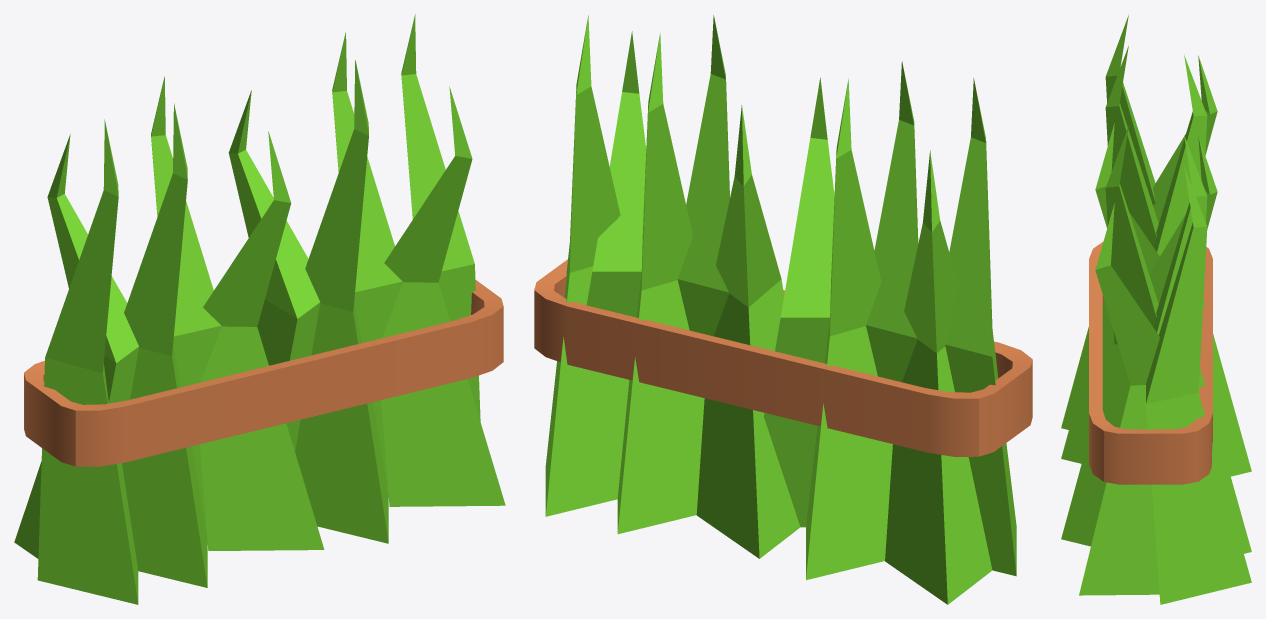
The model's file is wheat_stack_element.fbx.
3 renders of one model, left to right at view 1: azimuth 30°, elevation 25°; view 2: azimuth 150°, elevation 25°; view 3: azimuth 270°, elevation 25°, orthographic. The views are drawn at different scales.
Visible parts, largest first — view 1: Plane; view 2: Plane; view 3: Plane.
Boxes of the visible parts, left/top/right/bottom form: Plane: left=14, top=14, right=505, bottom=604; Plane: left=534, top=15, right=1032, bottom=604; Plane: left=1061, top=14, right=1251, bottom=604.
Size of the model in its own units: 217 by 212 by 88.03.
